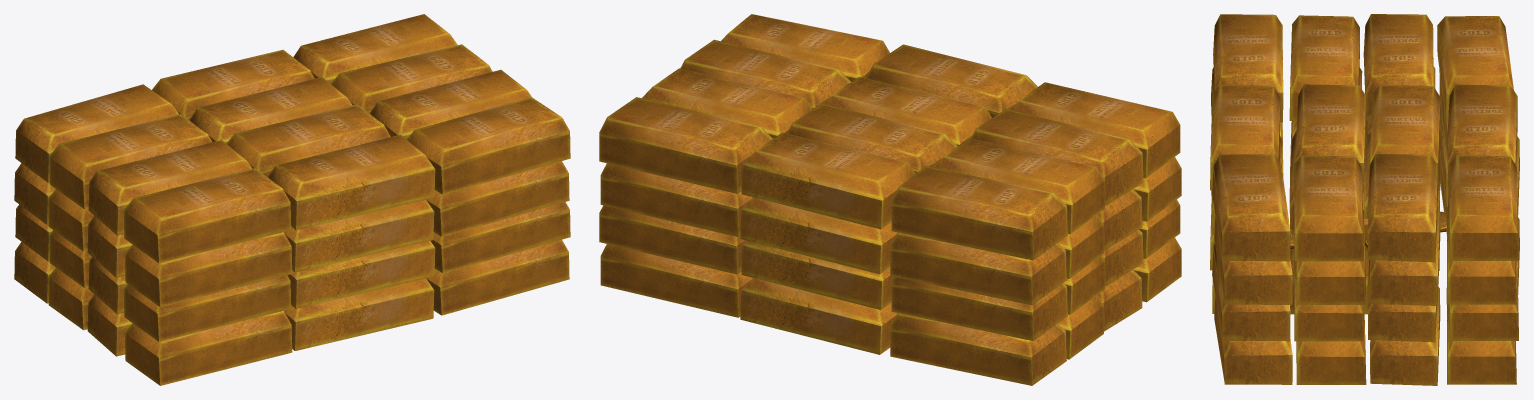
The model's file is Gold.obj.
The picture shows the model from 3 angles, left to right: view 1: azimuth 30°, elevation 25°; view 2: azimuth 150°, elevation 25°; view 3: azimuth 270°, elevation 25°; orthographic projection. The views are drawn at different scales.
Visible parts, largest first — view 1: gold_bar_44, gold_bar_24, gold_bar_28, gold_bar_43, gold_bar_00, gold_bar_40, gold_bar_39, gold_bar_42, gold_bar_25, gold_bar_01, gold_bar_13, gold_bar_36 (+18 smaller); view 2: gold_bar_42, gold_bar_45, gold_bar_46, gold_bar_07, gold_bar_31, gold_bar_06, gold_bar_30, gold_bar_39, gold_bar_44, gold_bar_40, gold_bar_19, gold_bar_24 (+18 smaller); view 3: gold_bar_28, gold_bar_47, gold_bar_37, gold_bar_46, gold_bar_40, gold_bar_42, gold_bar_44, gold_bar_36, gold_bar_39, gold_bar_45, gold_bar_24, gold_bar_41 (+16 smaller).
Boxes of the visible parts, box(x1,y1,x2,y2) form: gold_bar_44: box(123, 168, 291, 263); gold_bar_24: box(268, 135, 435, 230); gold_bar_28: box(407, 97, 570, 194); gold_bar_43: box(124, 232, 292, 307); gold_bar_00: box(124, 311, 292, 385); gold_bar_40: box(49, 114, 211, 209); gold_bar_39: box(88, 140, 251, 235); gold_bar_42: box(15, 84, 178, 182); gold_bar_25: box(284, 200, 434, 272); gold_bar_01: box(284, 278, 434, 350); gold_bar_13: box(123, 275, 291, 341); gold_bar_36: box(226, 104, 390, 177); gold_bar_42: box(891, 166, 1067, 260); gold_bar_45: box(741, 132, 914, 229); gold_bar_46: box(599, 97, 772, 193); gold_bar_07: box(890, 313, 1066, 385); gold_bar_31: box(890, 232, 1066, 305); gold_bar_06: box(740, 278, 897, 354); gold_bar_30: box(740, 197, 897, 274); gold_bar_39: box(971, 108, 1143, 205); gold_bar_44: box(1010, 82, 1180, 178); gold_bar_40: box(933, 138, 1104, 233); gold_bar_19: box(891, 277, 1067, 340); gold_bar_24: box(866, 44, 1037, 117); gold_bar_28: box(1212, 154, 1290, 261); gold_bar_47: box(1367, 153, 1437, 262); gold_bar_37: box(1294, 155, 1363, 261); gold_bar_46: box(1449, 155, 1518, 260); gold_bar_40: box(1363, 14, 1433, 120); gold_bar_42: box(1437, 16, 1513, 122); gold_bar_44: box(1213, 14, 1283, 122); gold_bar_36: box(1296, 84, 1366, 192); gold_bar_39: box(1289, 15, 1359, 121); gold_bar_45: box(1447, 84, 1517, 190); gold_bar_24: box(1210, 84, 1280, 190); gold_bar_41: box(1370, 85, 1440, 190).
Size of the model in its own units: 46.53 by 17.24 by 29.11.
